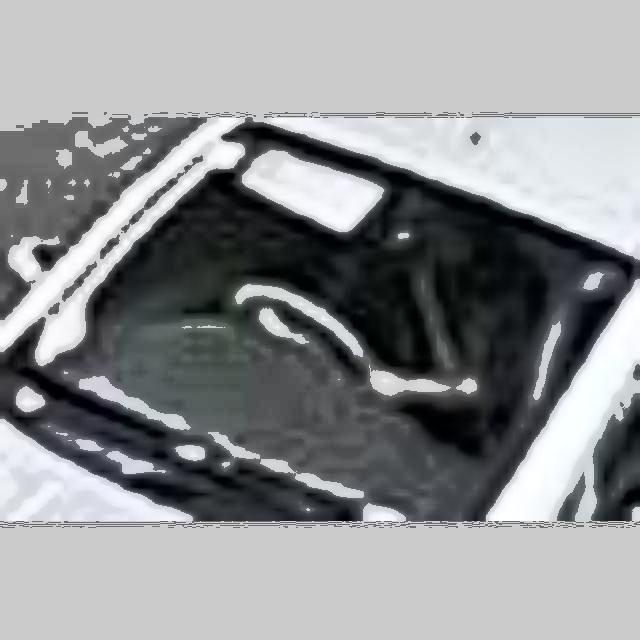pakai: (297, 187, 533, 438)
